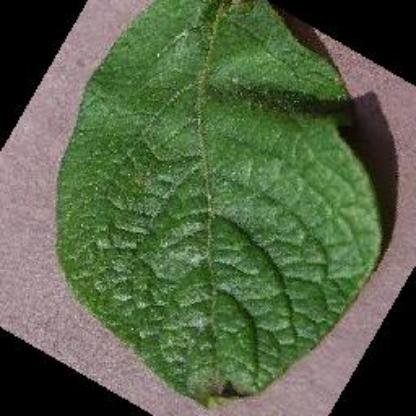Healthy-plant: (49, 0, 384, 406)
